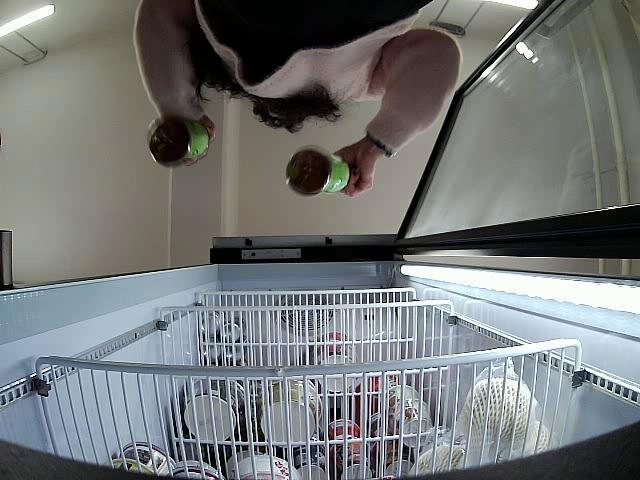19_17cha: (144, 117, 208, 167), (286, 147, 351, 195)
